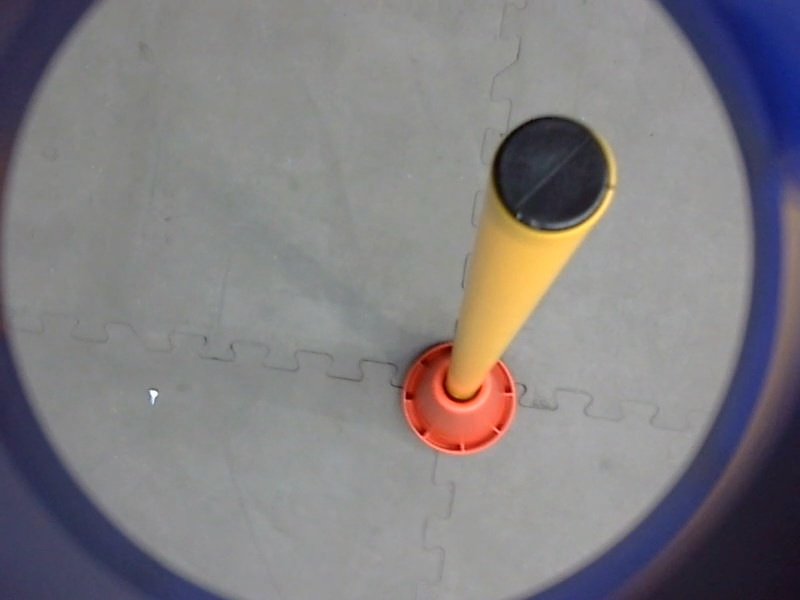tip: (485, 109, 623, 239)
